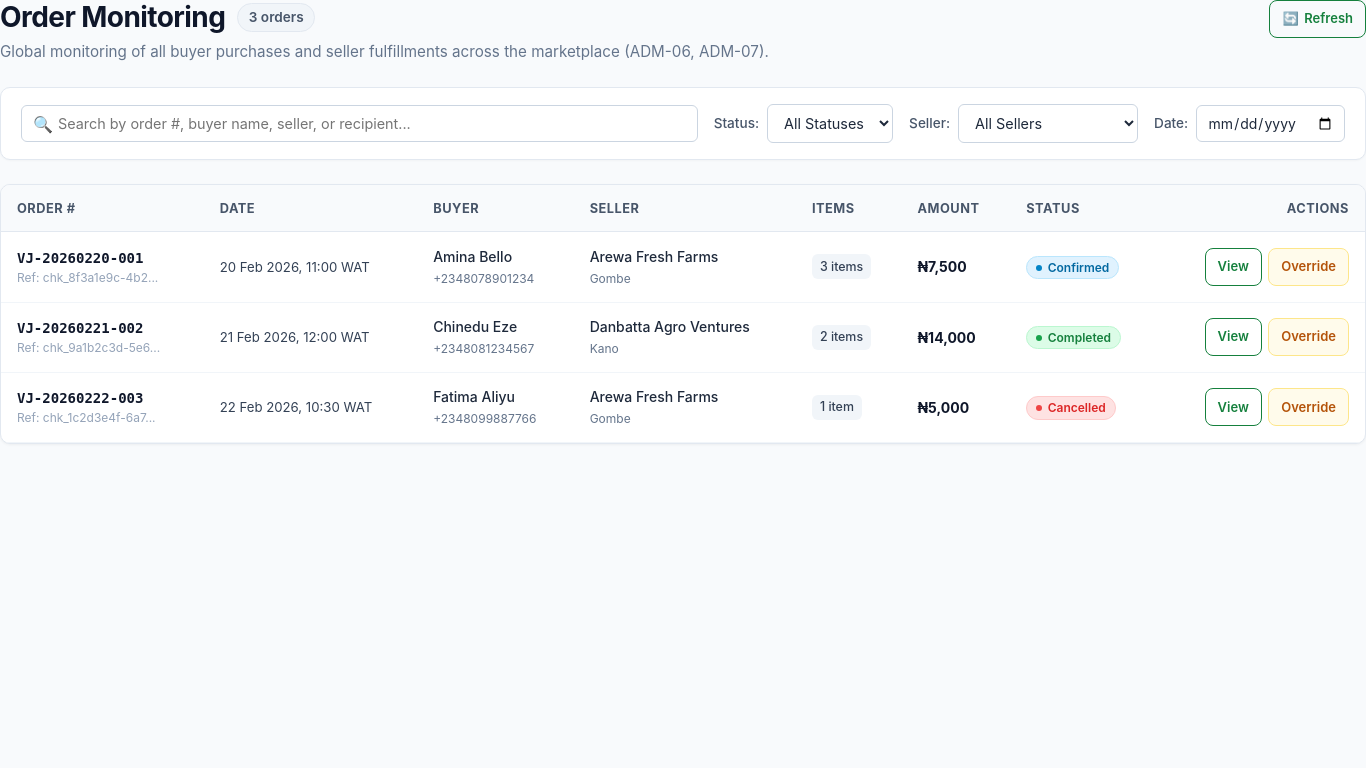
Test: FE-101 / FE-102 (ADM-06, ADM-07): Admin Orders Monitoring & Status Override › 3. Order Details Modal View (ADM-06, Figma Section 14) › opens modal on View Details click showing complete order record, buyer, seller, items, and history
Click the button with test id "view-order-btn-1": click(1233, 267) [1204,248,1262,286]
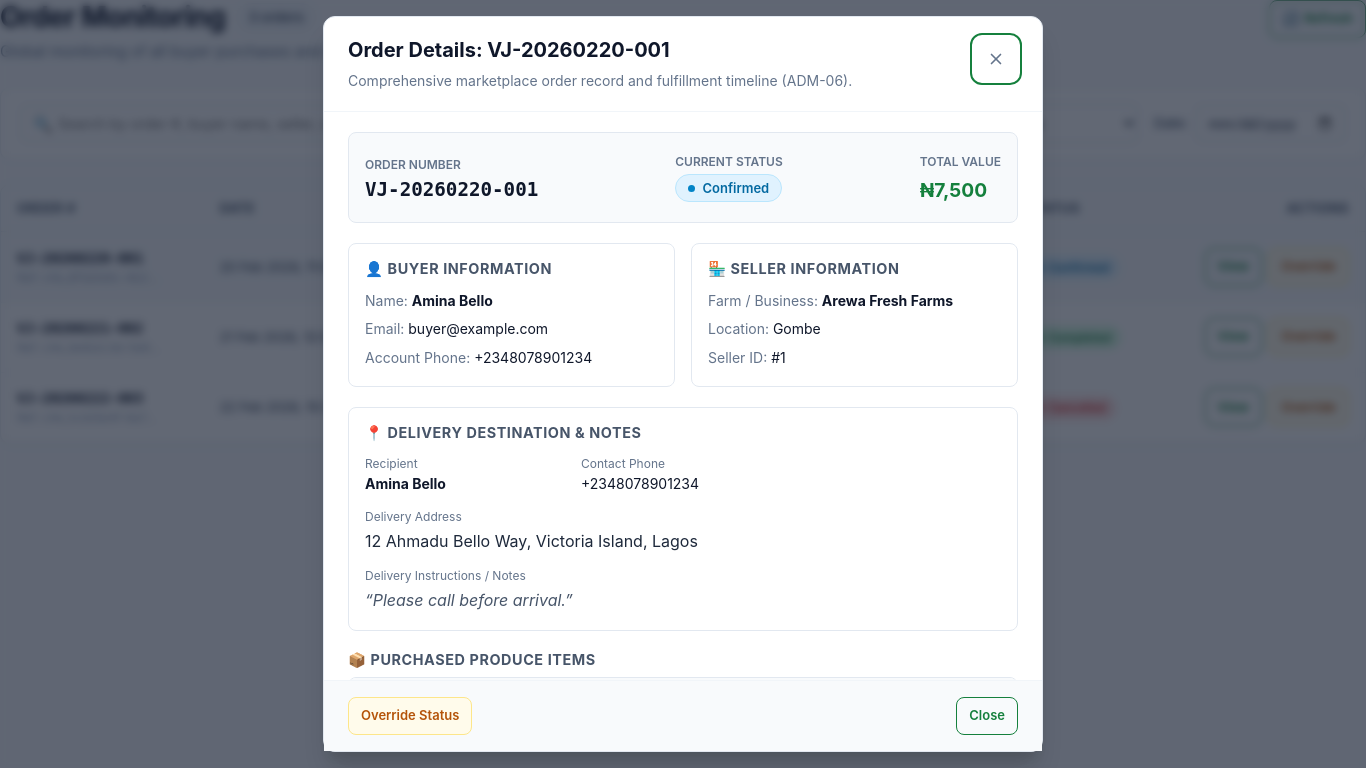
Now the dialog with test id "view-order-modal" is shown, box [323,16,1043,752]
Now the heading with test id "modal-order-number" reads "VJ-20260220-001", box [365,178,538,201]
Now the message with test id "modal-order-status" reads "Confirmed", box [702,180,769,196]
Close modal
Click the button with test id "modal-close-btn": click(987, 716) [956,697,1018,735]
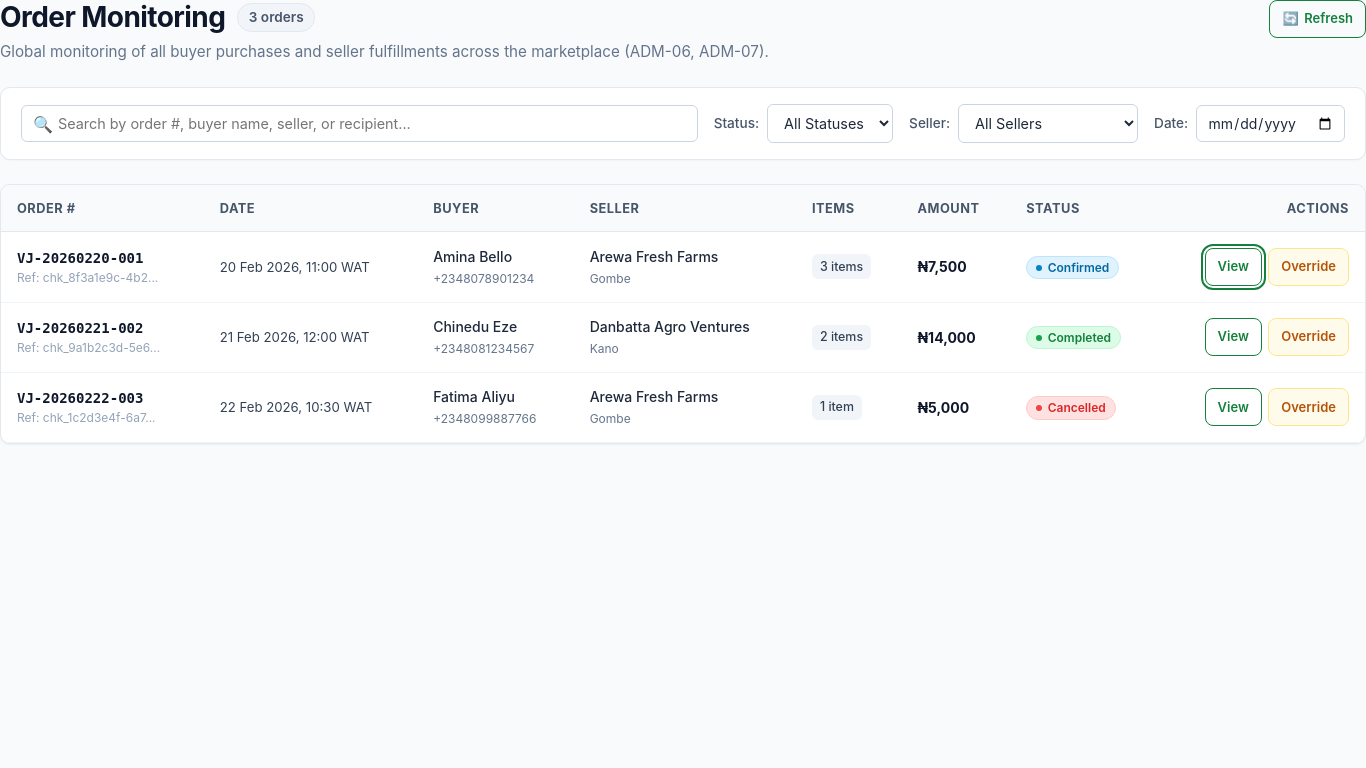
Now the dialog with test id "view-order-modal" is gone
